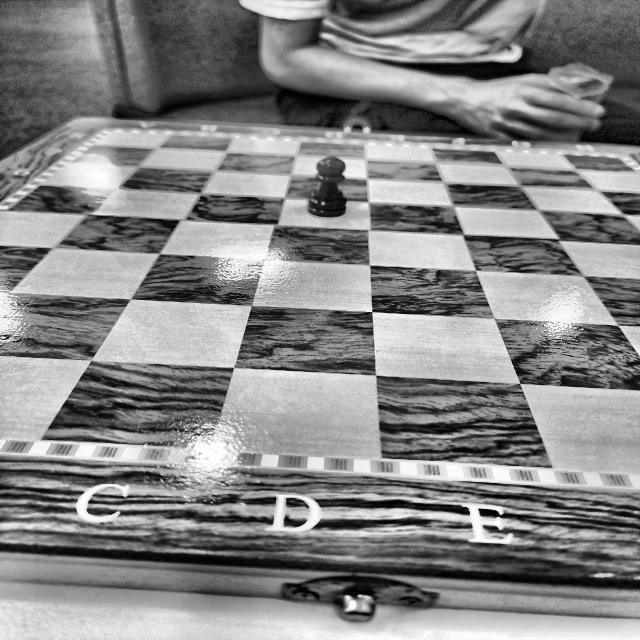black-pawn: (306, 157, 347, 216)
